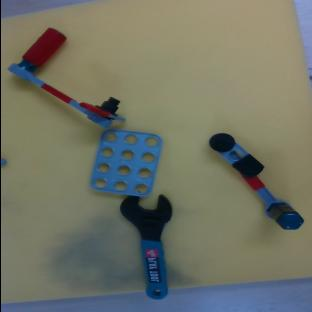non_pass: (204, 123, 308, 238)
pass: (7, 20, 145, 139)
